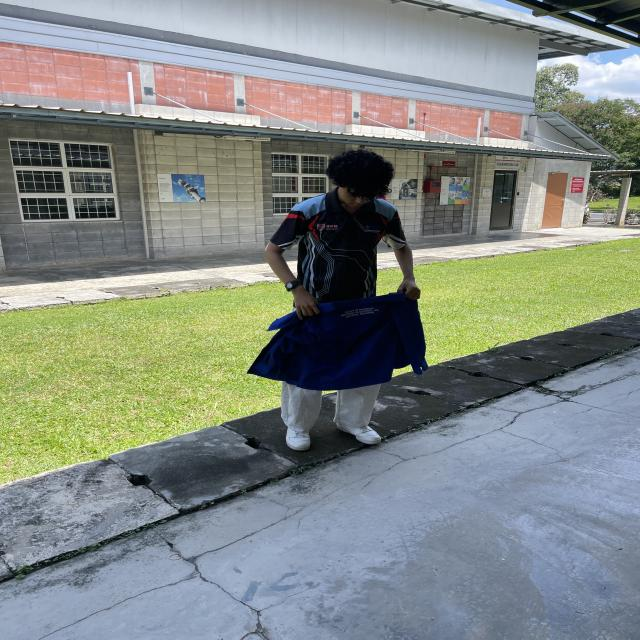person_without_labcoat: (247, 149, 428, 451)
